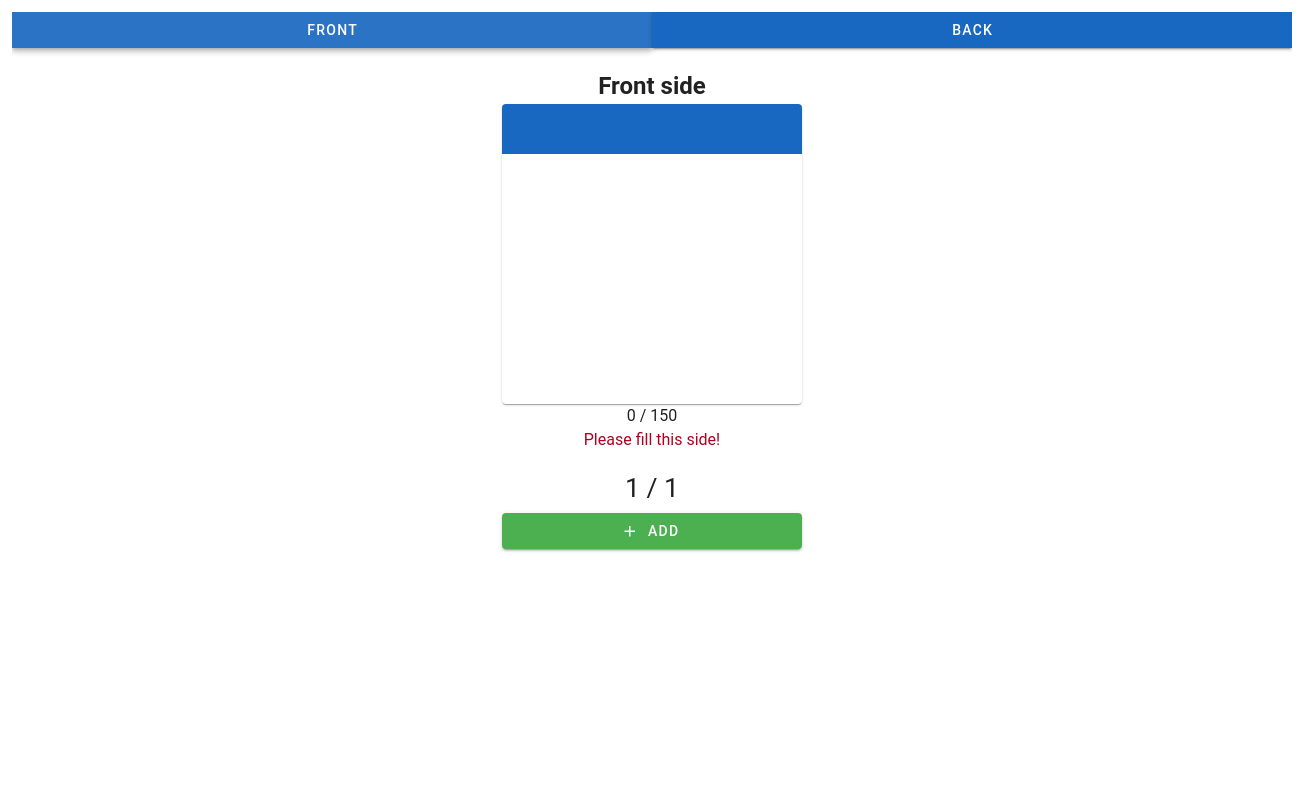
it: MobileFlashcardForm component › Add button › Add button works correctly
Click the button "Add" at x=652, y=531, box [502, 513, 802, 549]
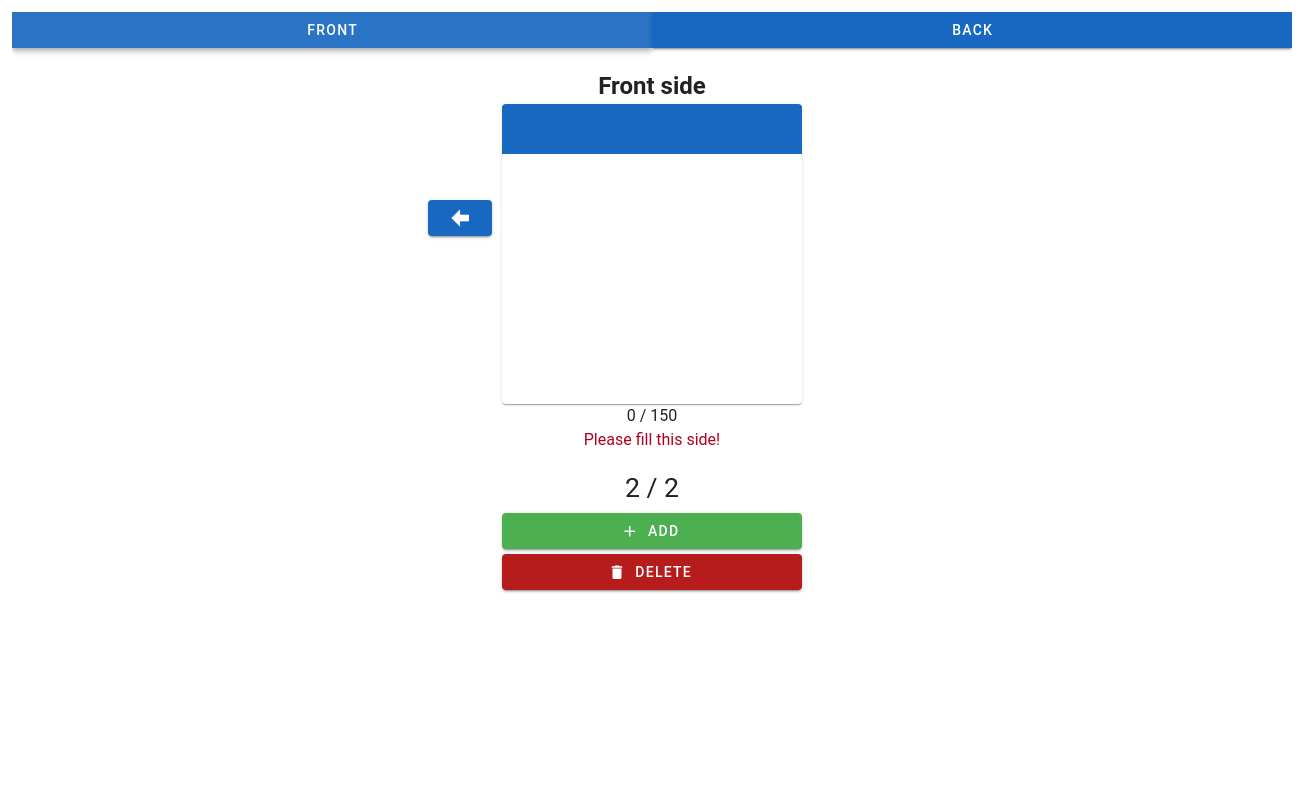
Now the text "2 / 2" is shown, box [625, 468, 679, 508]
